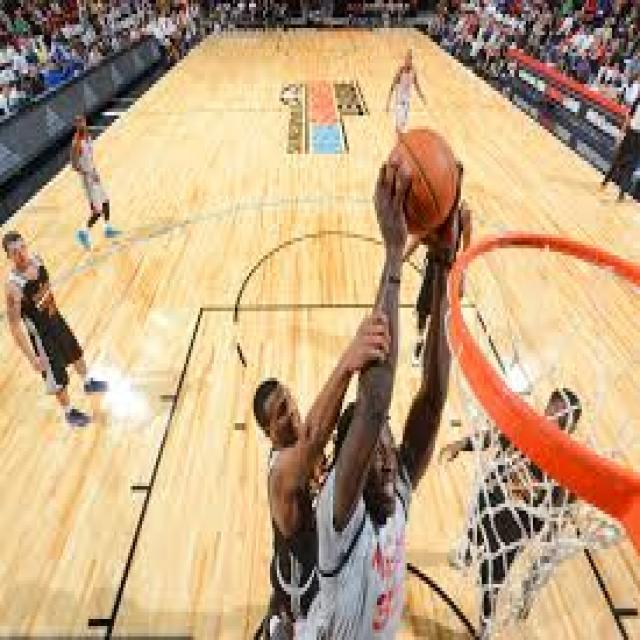rim: (391, 129, 456, 231)
